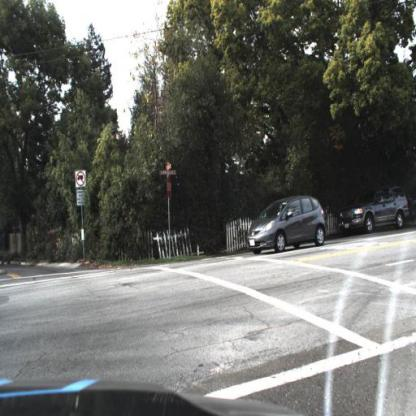car: (246, 193, 329, 256), (337, 186, 410, 235)
